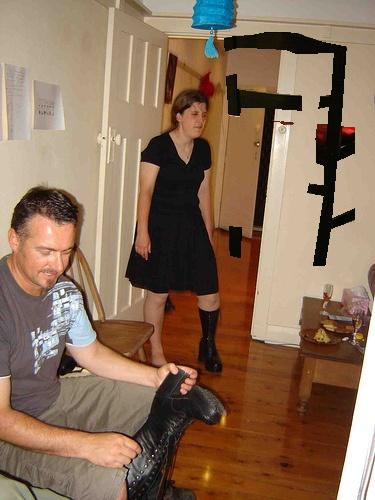tampered: (225, 33, 355, 266)
